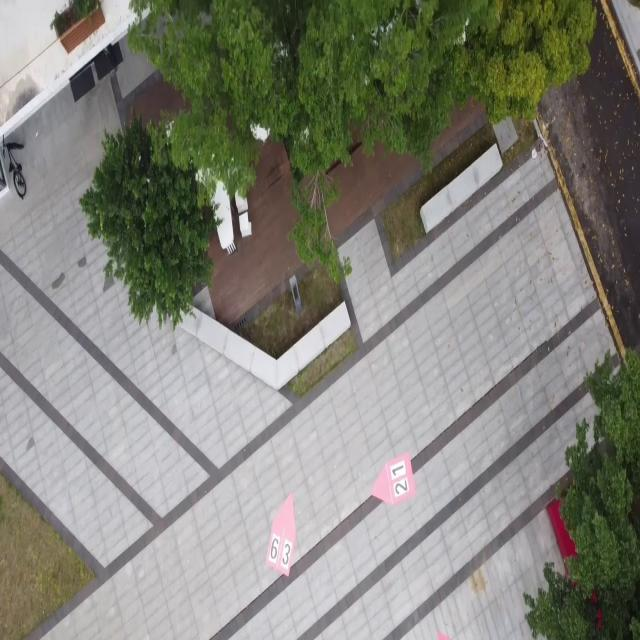-sign-: (265, 491, 297, 578), (370, 451, 416, 506)
